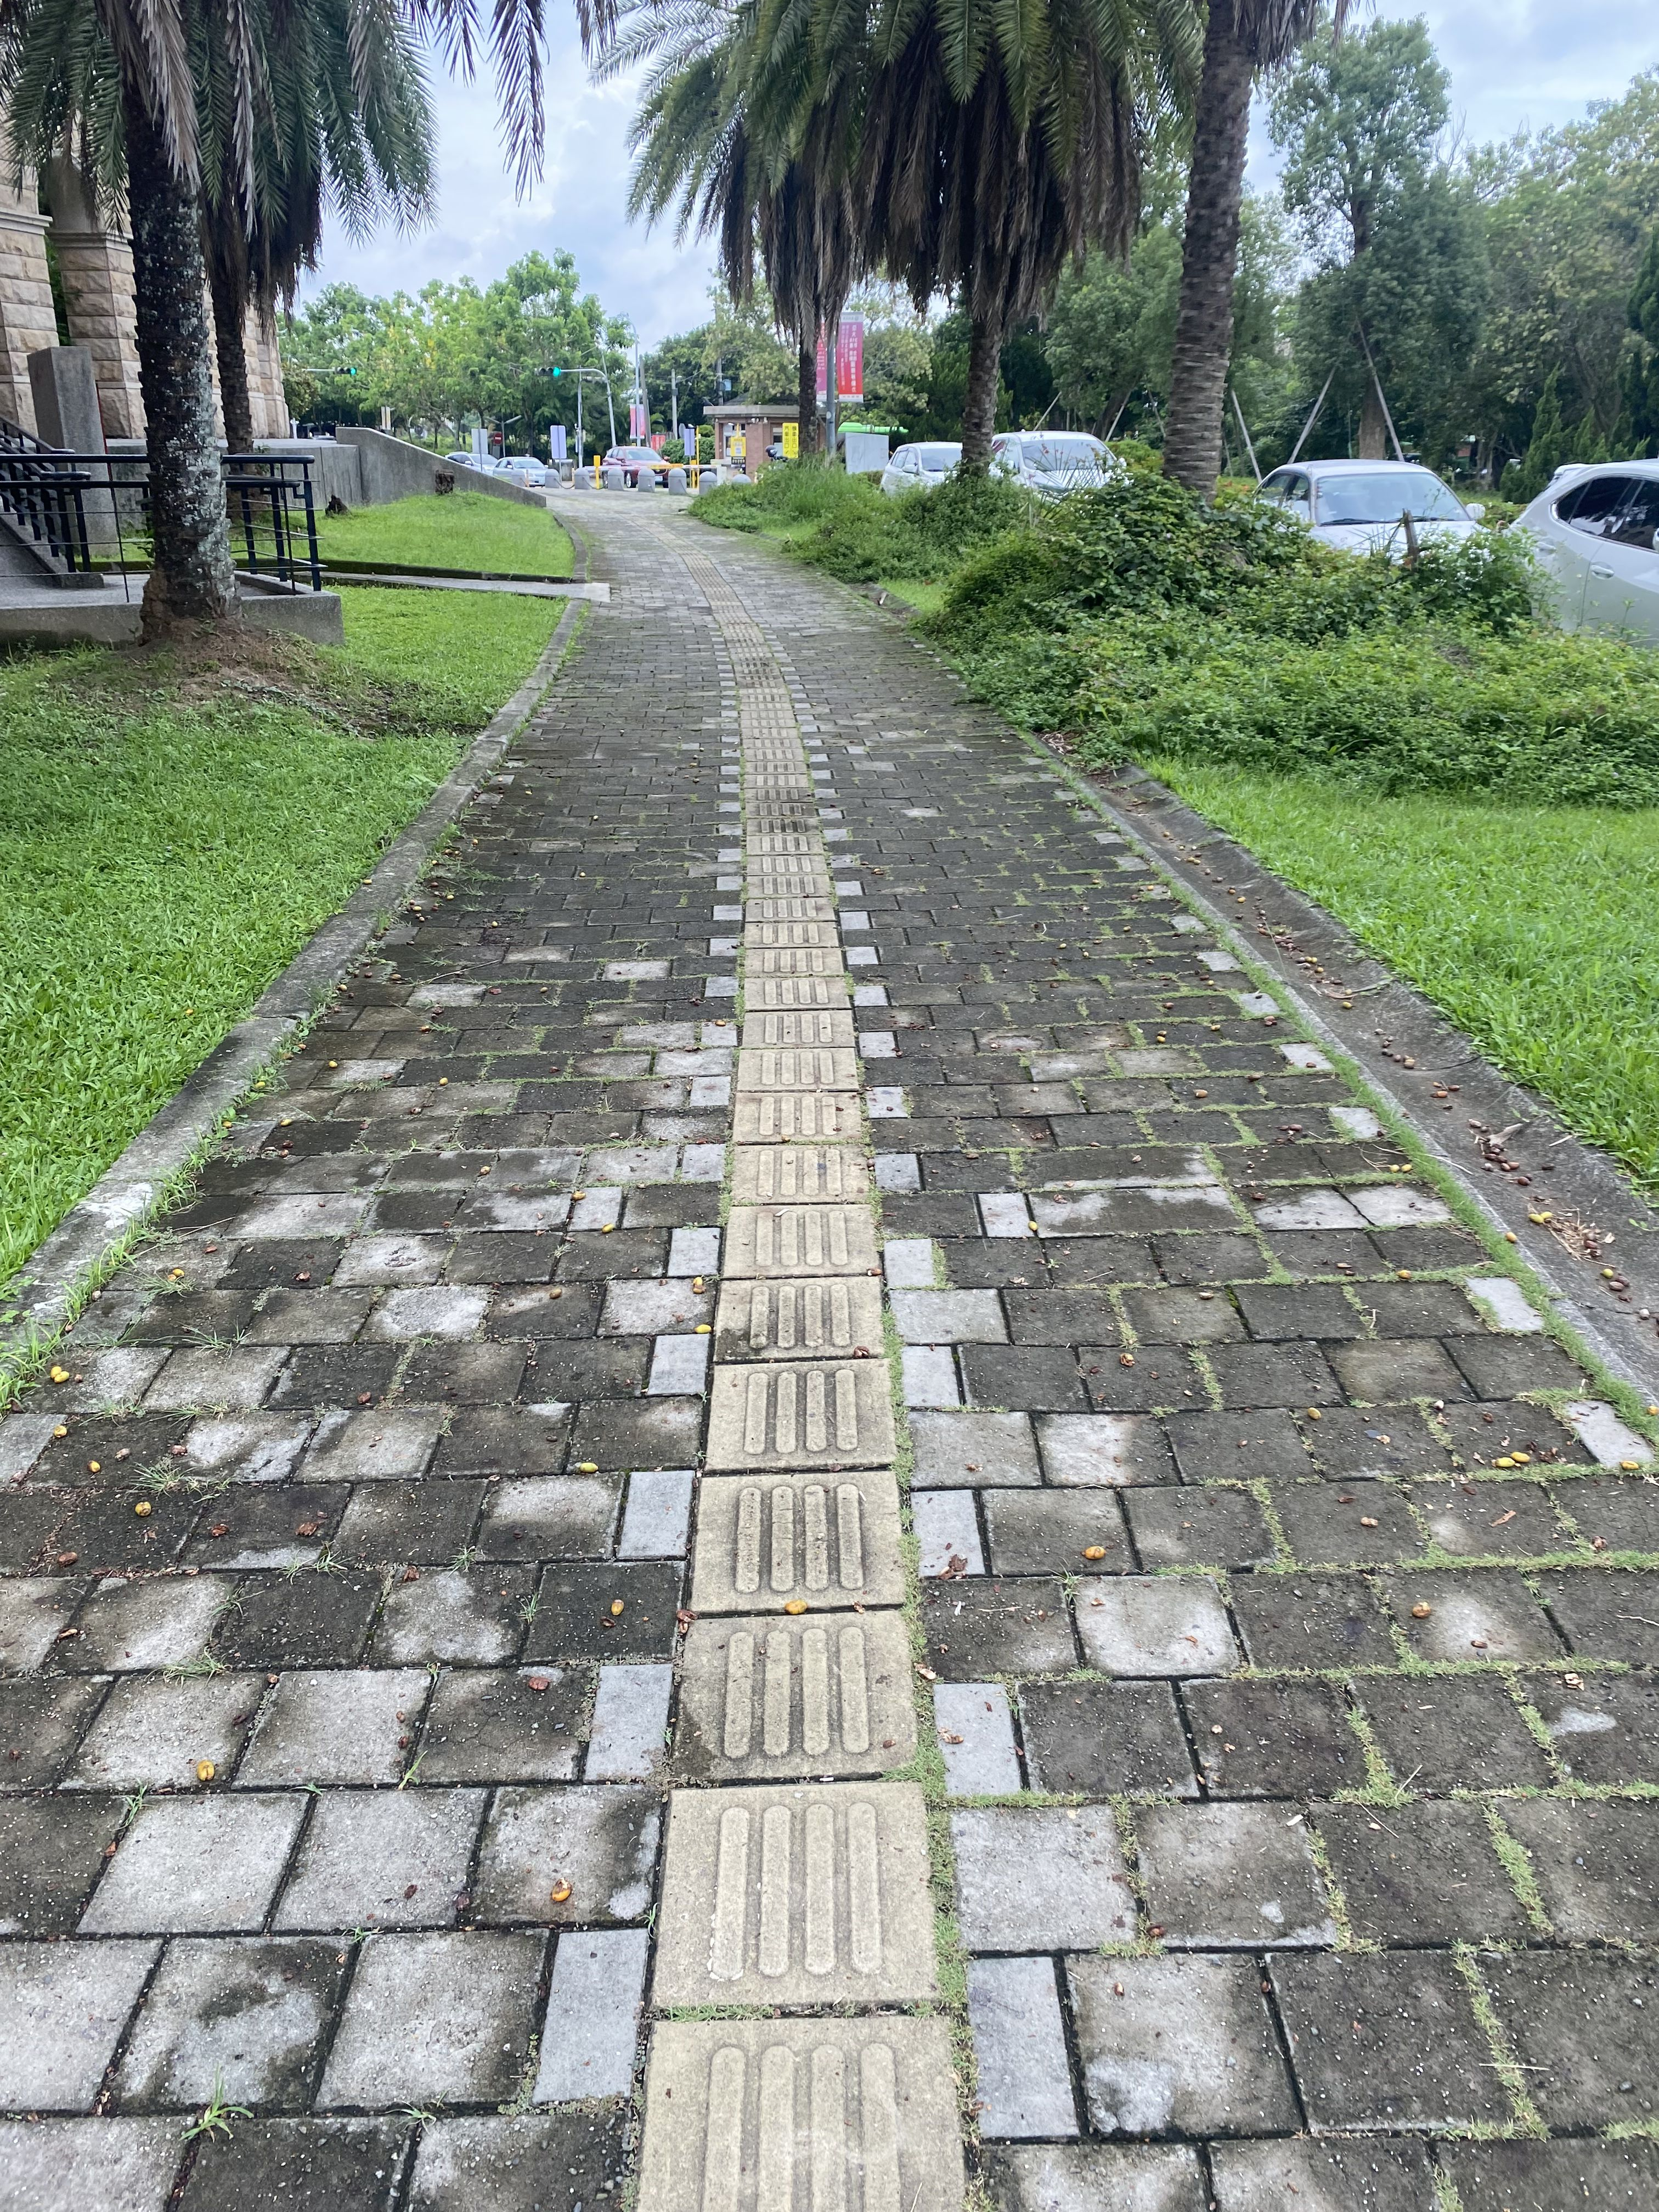0: (10, 765, 1659, 2212)
sidewalk: (497, 448, 1117, 1522)
